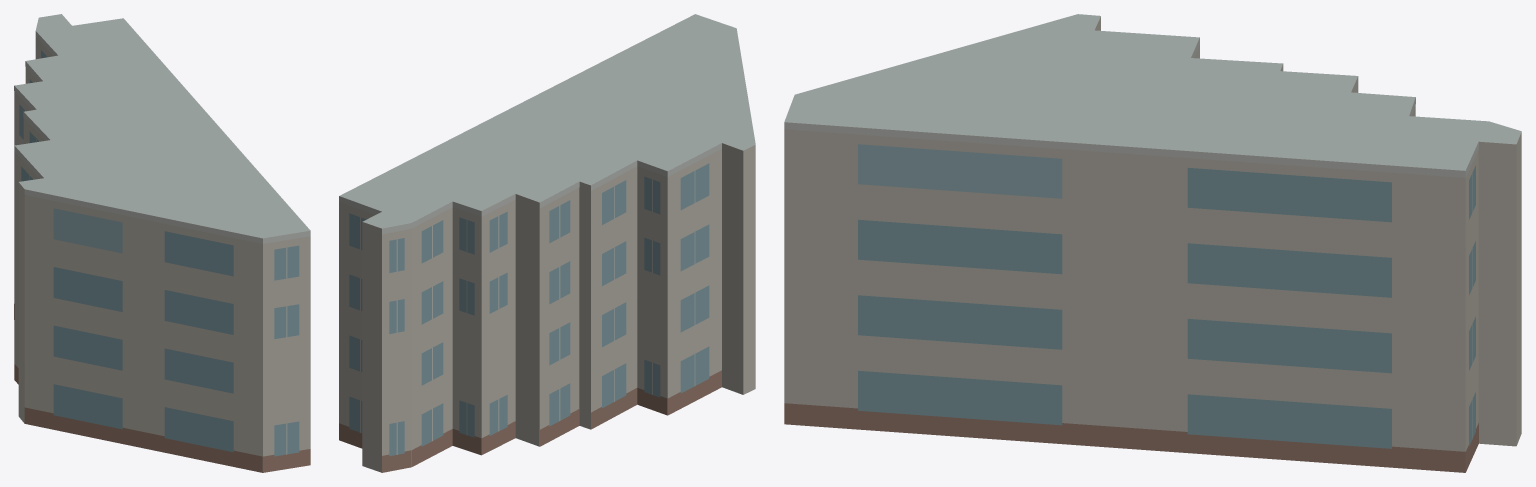
File: survey-upis-32918075.glb
3 views of the same model, side by side, from view 1: azimuth 30°, elevation 25°; view 2: azimuth 150°, elevation 25°; view 3: azimuth 270°, elevation 25° (orthographic). The views are drawn at different scales.
Visible parts, largest first — view 1: survey-upis-32918075.tmp; view 2: survey-upis-32918075.tmp; view 3: survey-upis-32918075.tmp.
Boxes of the visible parts, bbox=[...] form: survey-upis-32918075.tmp: bbox=[14, 14, 310, 472]; survey-upis-32918075.tmp: bbox=[339, 14, 755, 472]; survey-upis-32918075.tmp: bbox=[784, 14, 1521, 472].
Bounding box in the file's own units: 11.59 × 10.4 × 23.03.
